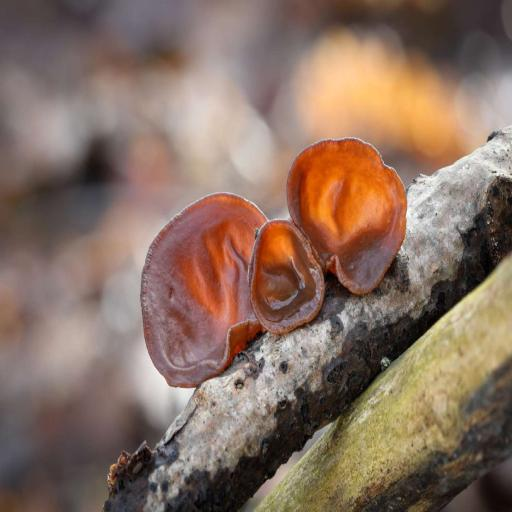Wood Ear Mushroom: (131, 188, 289, 380), (282, 127, 408, 296), (247, 213, 332, 337)
